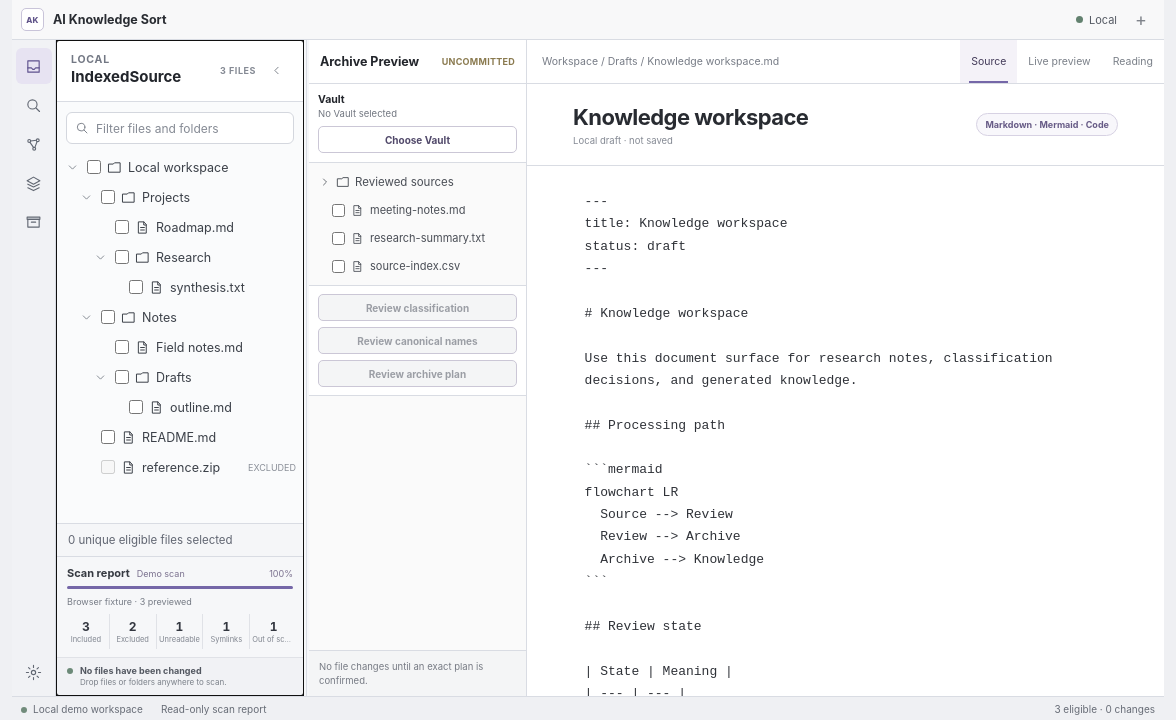
source workbench shell › reports that source picking requires the desktop runtime in browser mode
Step 1. Click the button named "Add source" → [1141, 20], box [1127, 6, 1155, 34]
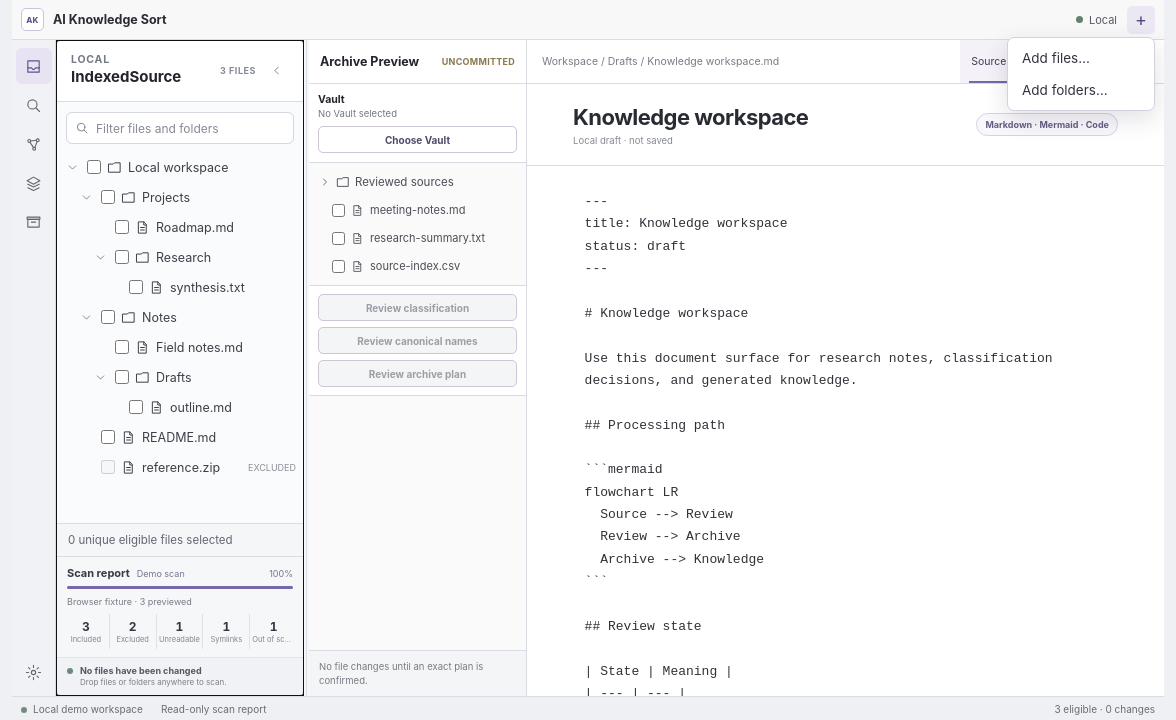
Step 2. Click the menu item "Add folders…" → [1081, 90], box [1013, 74, 1149, 104]
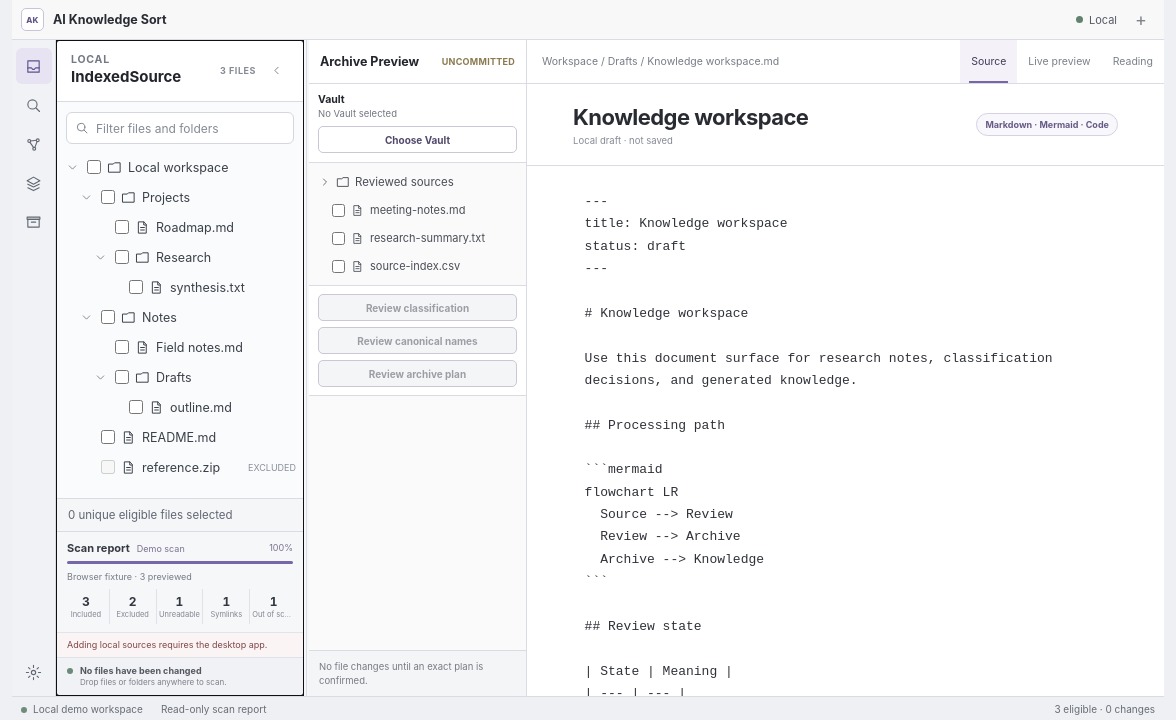
Expected: the text "Demo scan" is shown, [137, 543, 185, 554]
Expected: the message named "Drop status" shows "requires the desktop app", [67, 639, 268, 650]
